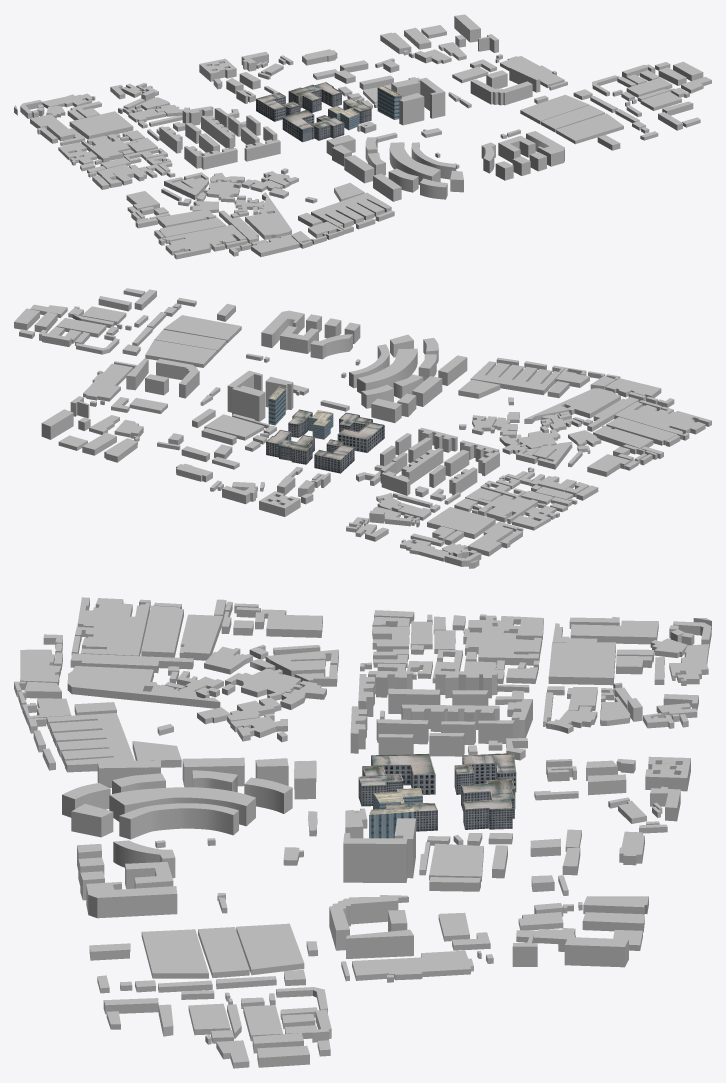
The model's file is xibu.obj.
3 views of the same model, one above another, from view 1: azimuth 30°, elevation 25°; view 2: azimuth 150°, elevation 25°; view 3: azimuth 270°, elevation 25° (orthographic). The views are drawn at different scales.
Visible parts, largest first — view 1: Line001; view 2: Line001; view 3: Line001.
Part boxes in pixels (x1,y1,x2,y2): Line001: [14, 14, 711, 259]; Line001: [14, 288, 711, 568]; Line001: [14, 597, 711, 1068].
Bounding box in the file's own units: 596 × 23.38 × 379.
